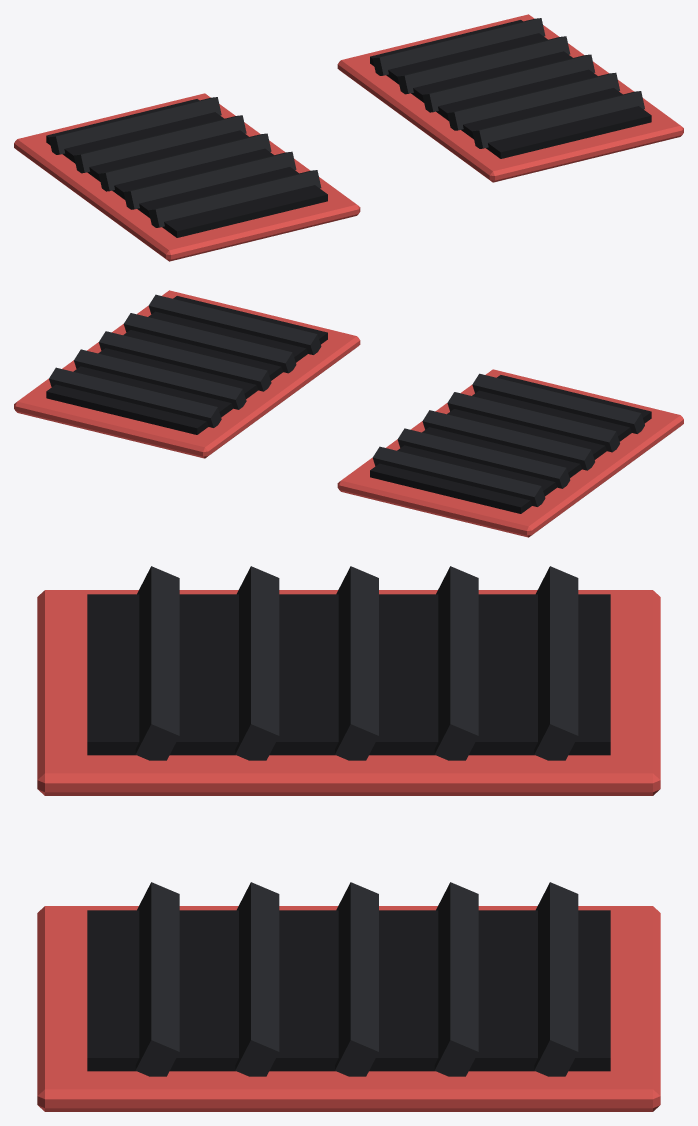
The model's file is hood_vents.glb.
3 views of the same model, one above another, from view 1: azimuth 30°, elevation 25°; view 2: azimuth 150°, elevation 25°; view 3: azimuth 270°, elevation 25° (orthographic). The views are drawn at different scales.
Parts seen in each view (by area): view 1: hood_vents__mesh; view 2: hood_vents__mesh; view 3: hood_vents__mesh.
Part boxes in pixels (x1,y1,x2,y2): hood_vents__mesh: (14, 14, 683, 261); hood_vents__mesh: (14, 290, 683, 537); hood_vents__mesh: (37, 566, 660, 1111).
Bounding box in the file's own units: 0.96 × 0.0525 × 0.5.
2 materials, 1 textured.
